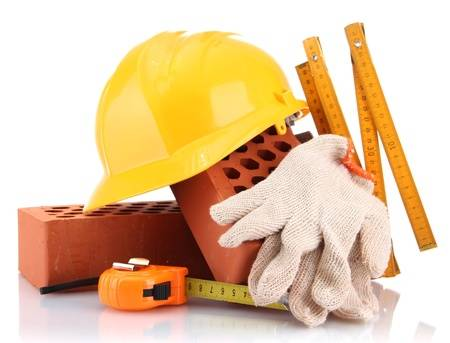casco: (84, 25, 311, 215)
